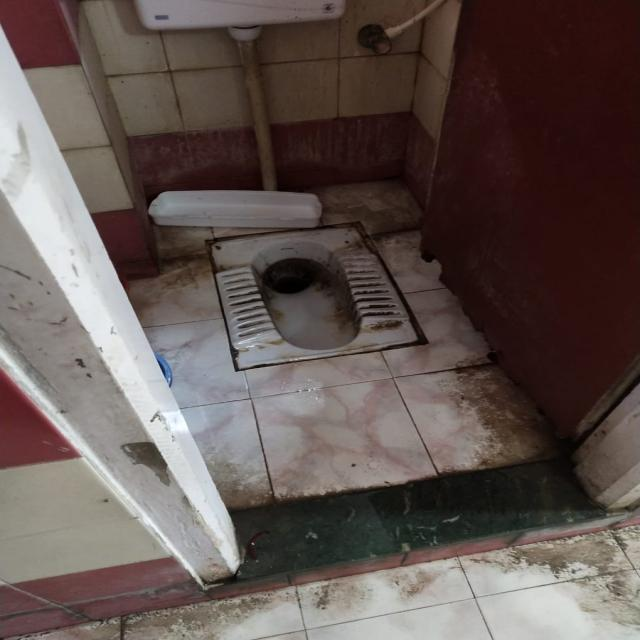dirty_floor: (3, 2, 636, 635), (111, 186, 561, 514), (24, 0, 456, 213), (4, 518, 637, 638)
